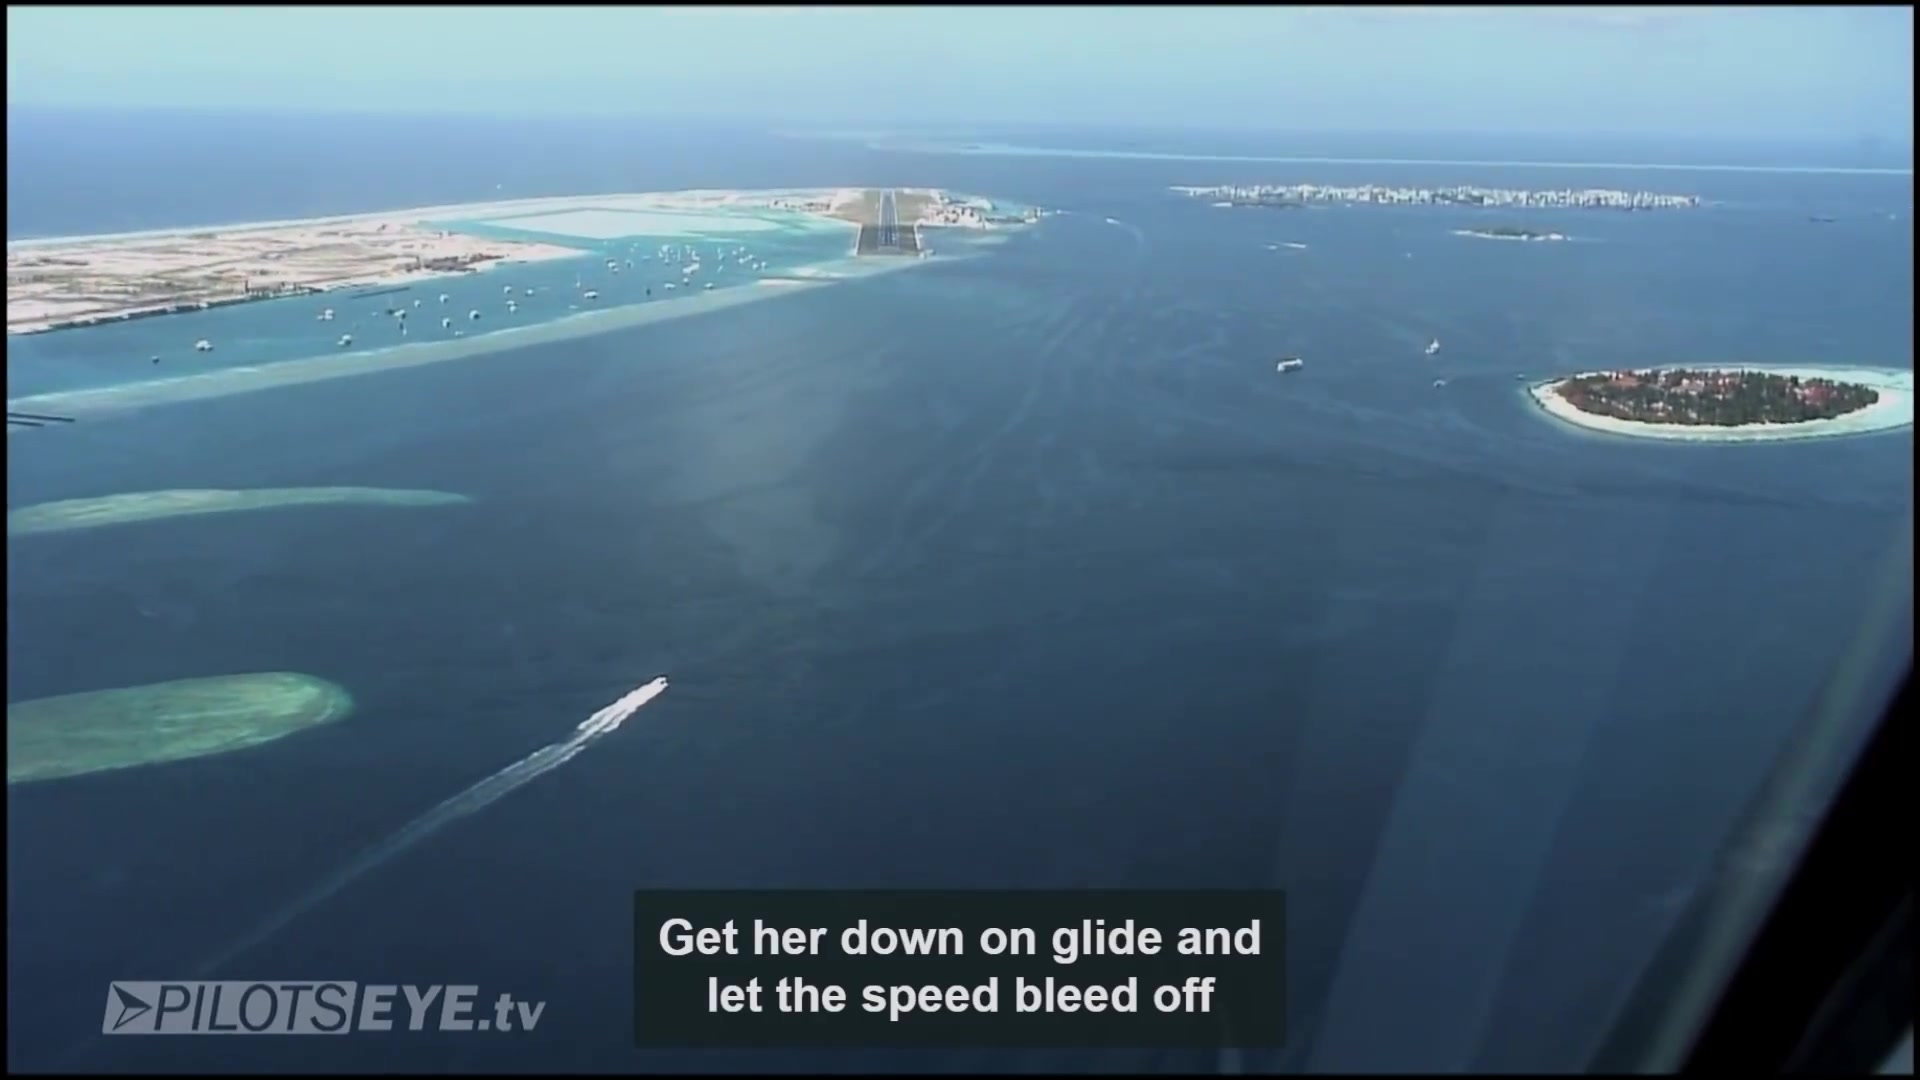runway: (876, 189, 901, 255)
